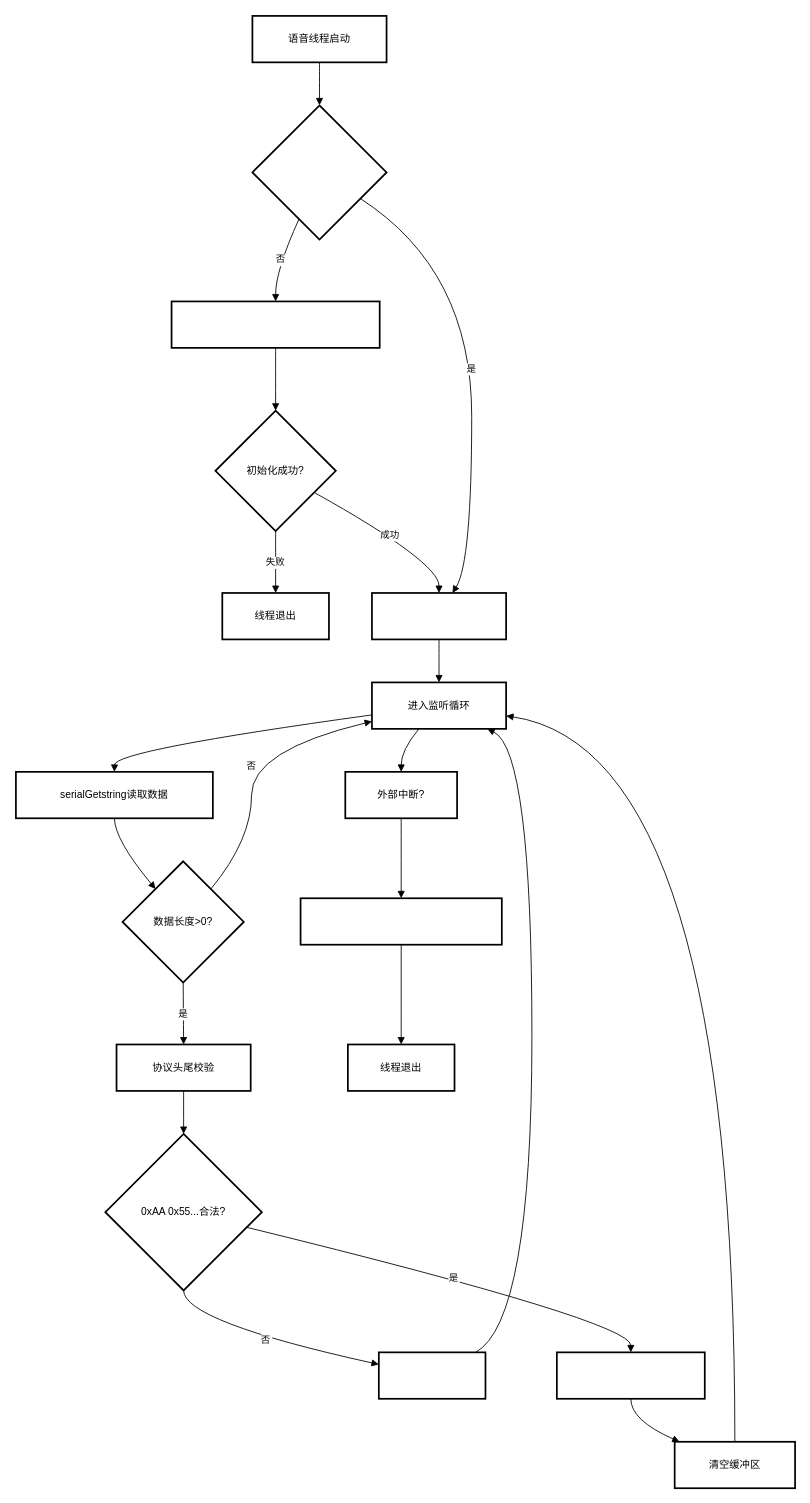
This 810x1503 diagram has some shape labels left out. Here are the shapes that lost their labels. From the top down, the box of each, then its label:
(251, 104, 387, 240): 串口已初始化?
(170, 300, 380, 348): 调用voice_init初始化串口
(371, 592, 507, 640): 绑定消息队列
(299, 897, 502, 945): 调用voice_final释放资源
(378, 1351, 486, 1399): 丢弃数据
(556, 1351, 705, 1399): 发送至消息队列
